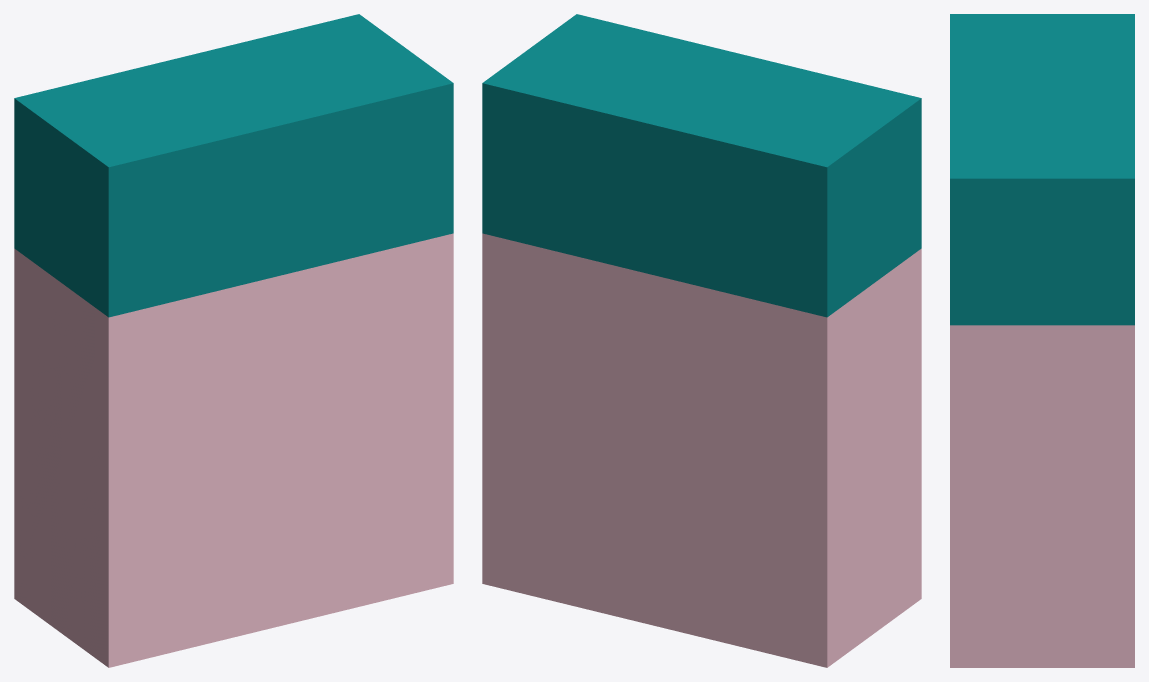
File: Ürün55.fbx
3 renders of one model, left to right at view 1: azimuth 30°, elevation 25°; view 2: azimuth 150°, elevation 25°; view 3: azimuth 270°, elevation 25°, orthographic. The views are drawn at different scales.
Parts seen in each view (by area): view 1: pCube90; view 2: pCube90; view 3: pCube90.
Boxes of the visible parts, box(x1,y1,x2,y2) form: pCube90: box(14, 14, 453, 667); pCube90: box(482, 14, 921, 667); pCube90: box(950, 14, 1134, 667).
Size of the model in its own units: 23.51 by 32.6 by 11.16.
